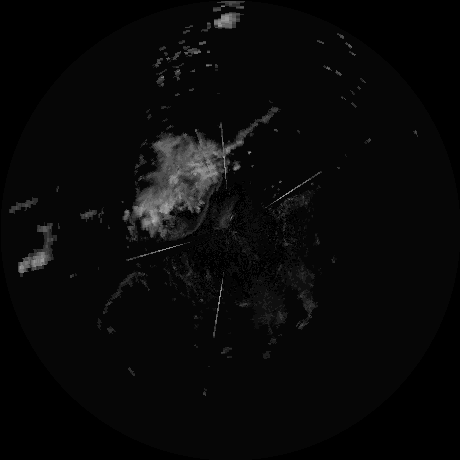frontgust: (164, 176, 222, 240)
